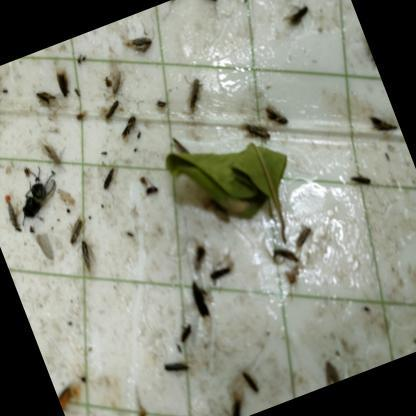prays_oleae: (362, 99, 406, 153), (238, 107, 279, 153), (260, 94, 296, 144), (158, 346, 194, 388), (122, 23, 158, 63), (179, 74, 212, 114), (276, 0, 312, 32), (0, 196, 28, 237), (289, 222, 320, 257), (216, 385, 251, 416), (270, 240, 300, 276), (344, 158, 371, 194), (50, 62, 75, 100), (40, 138, 67, 172), (238, 364, 262, 401), (185, 241, 213, 272), (32, 86, 60, 116), (76, 237, 102, 268), (94, 166, 123, 192), (316, 356, 342, 385), (206, 258, 233, 284), (102, 64, 126, 92), (95, 94, 124, 117), (61, 217, 91, 238), (72, 106, 92, 132), (114, 116, 140, 135), (200, 0, 228, 12), (0, 72, 8, 104)
